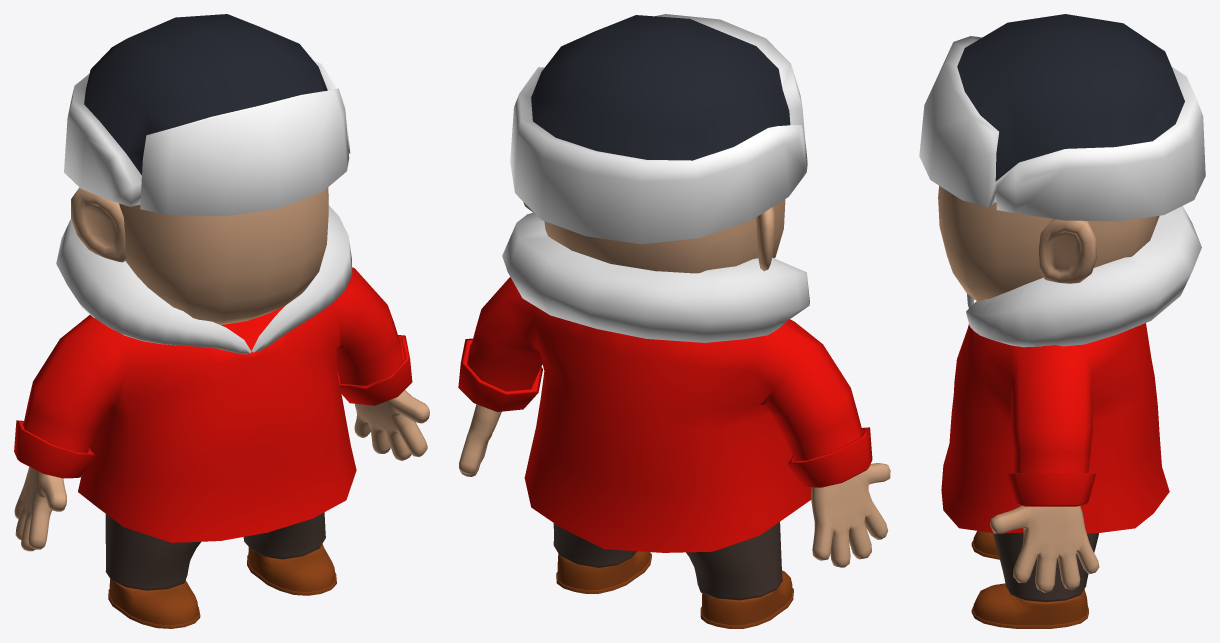
File: Ruso.glb
3 renders of one model, left to right at view 1: azimuth 30°, elevation 25°; view 2: azimuth 150°, elevation 25°; view 3: azimuth 270°, elevation 25°, orthographic. The views are drawn at different scales.
Parts seen in each view (by area): view 1: Ruso; view 2: Ruso; view 3: Ruso.
Boxes of the visible parts, left/top/right/bottom form: Ruso: left=14, top=14, right=429, bottom=628; Ruso: left=458, top=14, right=890, bottom=628; Ruso: left=919, top=14, right=1205, bottom=628.
Size of the model in its own units: 1.05 by 1.38 by 0.6507.
